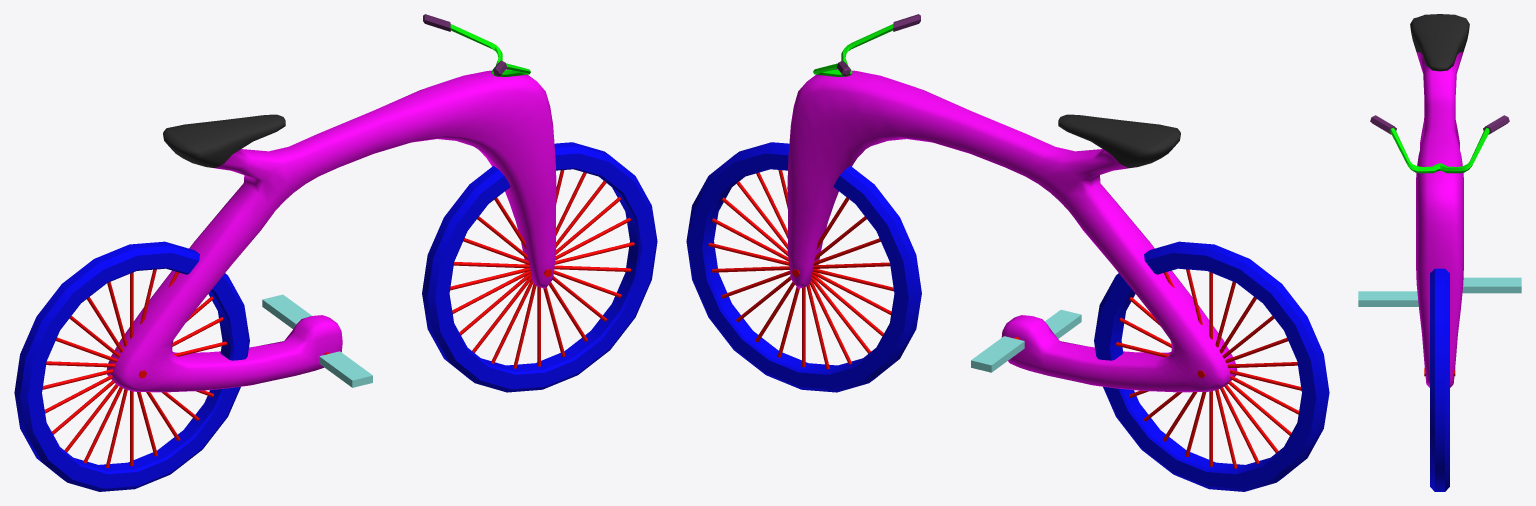
The model's file is SM_Velo.fbx.
The picture shows the model from 3 angles, left to right: view 1: azimuth 30°, elevation 25°; view 2: azimuth 150°, elevation 25°; view 3: azimuth 270°, elevation 25°; orthographic projection. The views are drawn at different scales.
Parts seen in each view (by area): view 1: SM_Velo; view 2: SM_Velo; view 3: SM_Velo.
Boxes of the visible parts, x1=… form: SM_Velo: x1=14, y1=14, x2=657, y2=491; SM_Velo: x1=686, y1=14, x2=1329, y2=491; SM_Velo: x1=1358, y1=14, x2=1521, y2=491.
Size of the model in its own units: 1.66 by 0.9121 by 0.4069.
